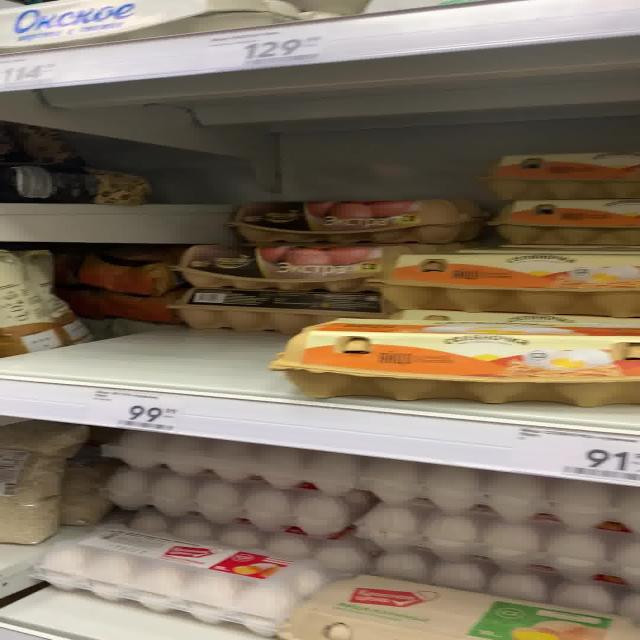egg box: (35, 522, 329, 634), (272, 320, 634, 397), (377, 248, 638, 317), (225, 195, 485, 242), (173, 243, 407, 294)
